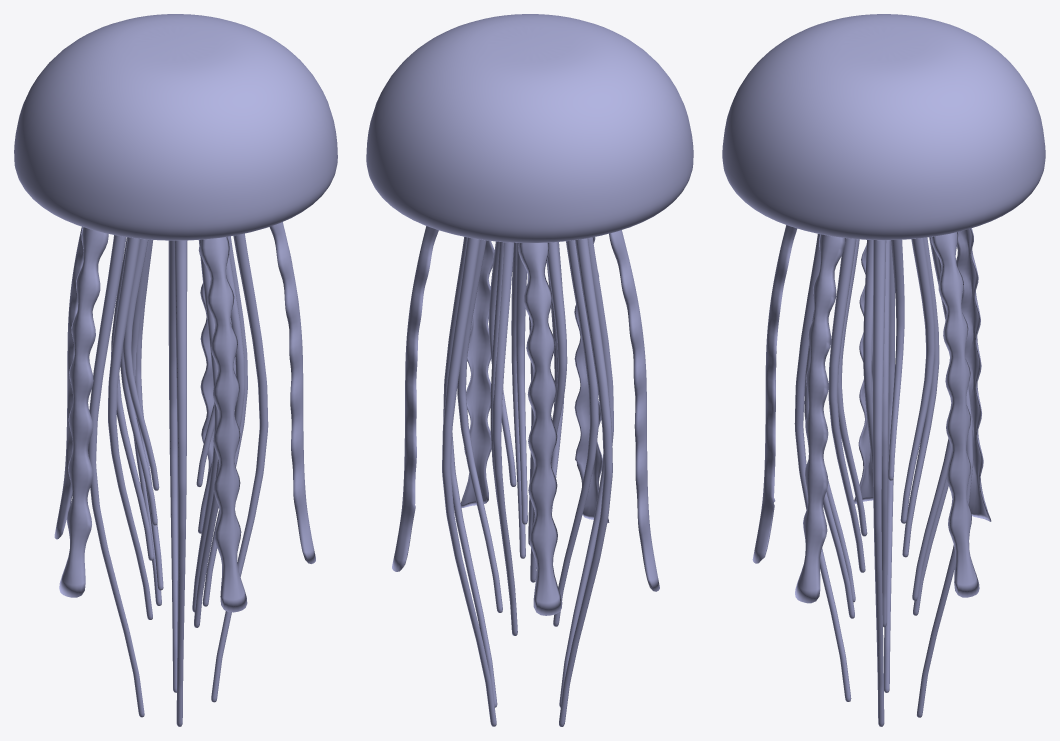
Rendered from fish-sua.glb.
The picture shows the model from 3 angles, left to right: view 1: azimuth 30°, elevation 25°; view 2: azimuth 150°, elevation 25°; view 3: azimuth 270°, elevation 25°; orthographic projection.
Parts seen in each view (by area): view 1: body; view 2: body; view 3: body.
Part boxes in pixels (x1=…): body: x1=14, y1=14, x2=337, y2=726; body: x1=366, y1=14, x2=693, y2=726; body: x1=722, y1=14, x2=1045, y2=726.
Bounding box in the file's own units: 0.4403 × 1 × 0.4403.
